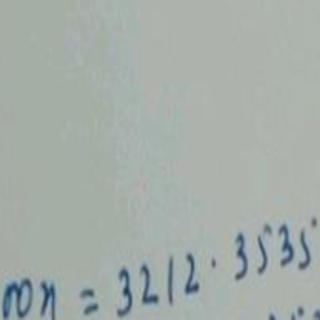.: (207, 251, 222, 273)
1: (164, 252, 175, 306)
2: (179, 250, 205, 296), (138, 262, 159, 305)
3: (113, 262, 138, 318), (276, 218, 297, 267), (229, 232, 250, 280)
5: (251, 222, 272, 273), (297, 223, 318, 273)
